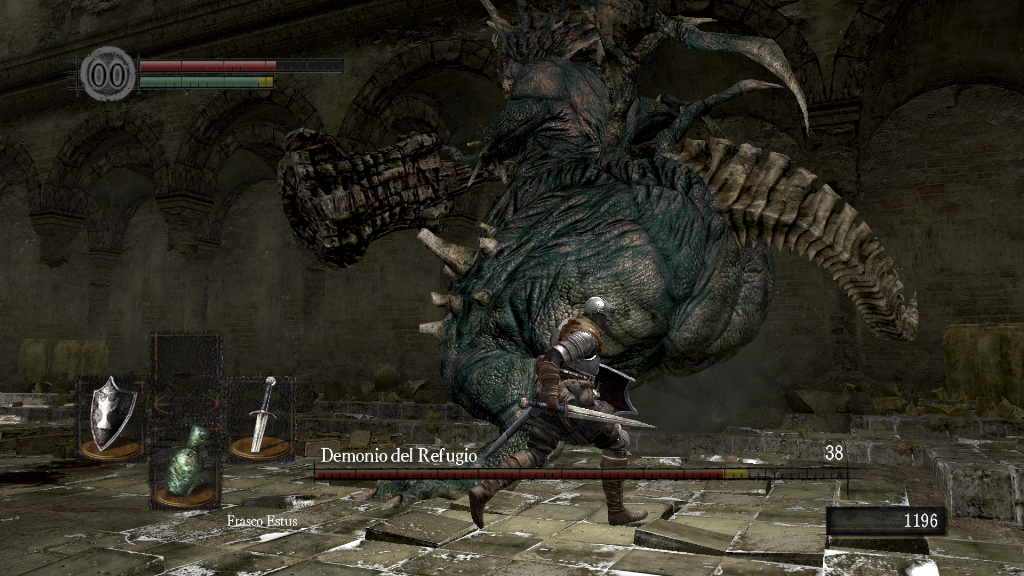asylumDemon: (278, 2, 924, 516)
bossHP: (314, 469, 847, 479)
health: (138, 58, 343, 71)
humanity: (80, 45, 136, 102)
player: (467, 295, 660, 531)
souls: (825, 506, 945, 536)
stamina: (138, 74, 274, 88)
